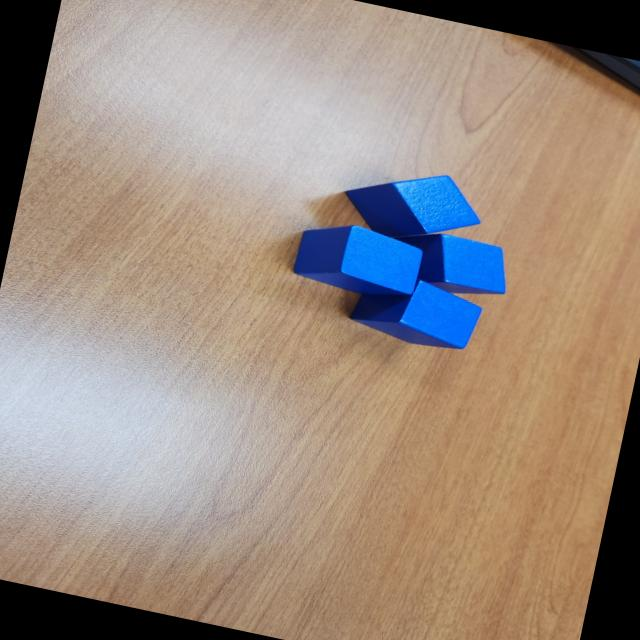blue: (338, 156, 490, 256), (346, 266, 486, 357), (289, 214, 426, 306), (382, 223, 515, 304)
